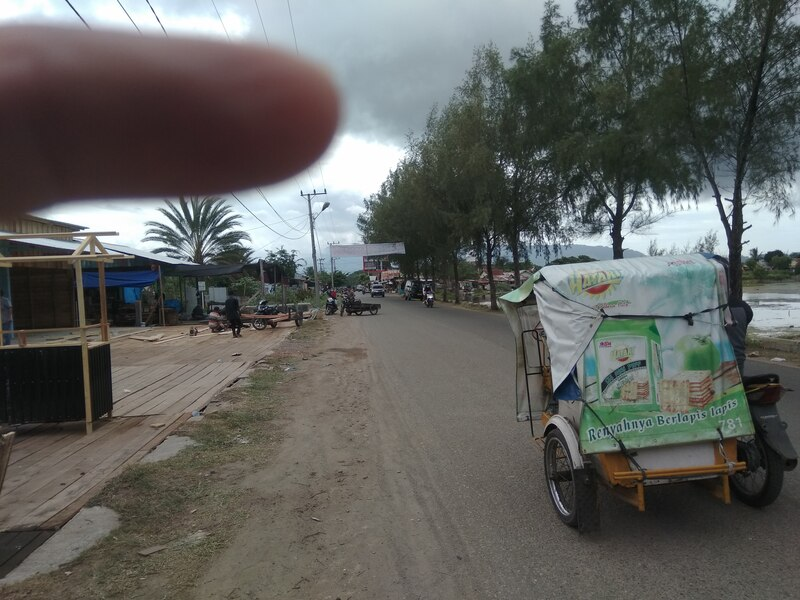becak barang: (252, 296, 312, 332), (339, 291, 387, 319)
